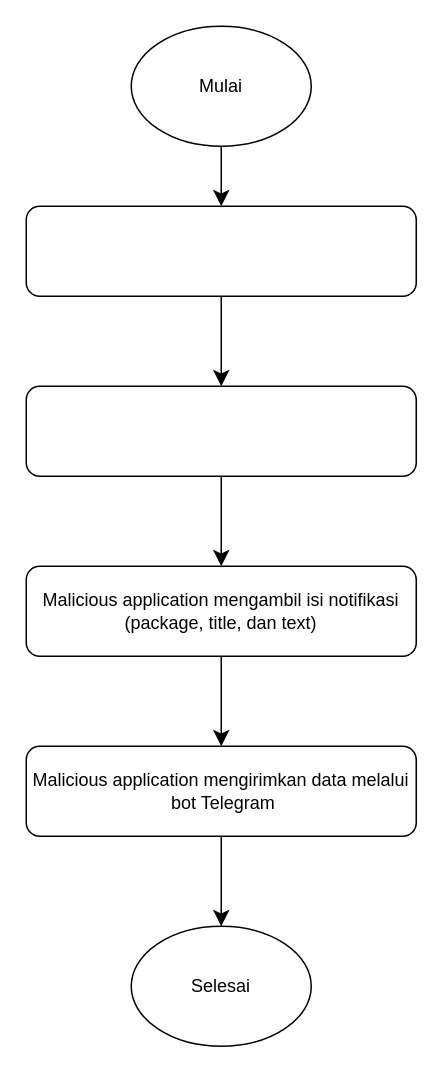
This 443x1073 diagram has some shape labels left out. Each missing label, with the centre of its shape:
"Malicious application menangkap notifikasi" belongs at [220,430].
"Terdapat notifikasi android" belongs at [220,250].
